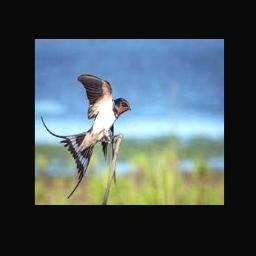Swallow: (41, 75, 130, 200)
